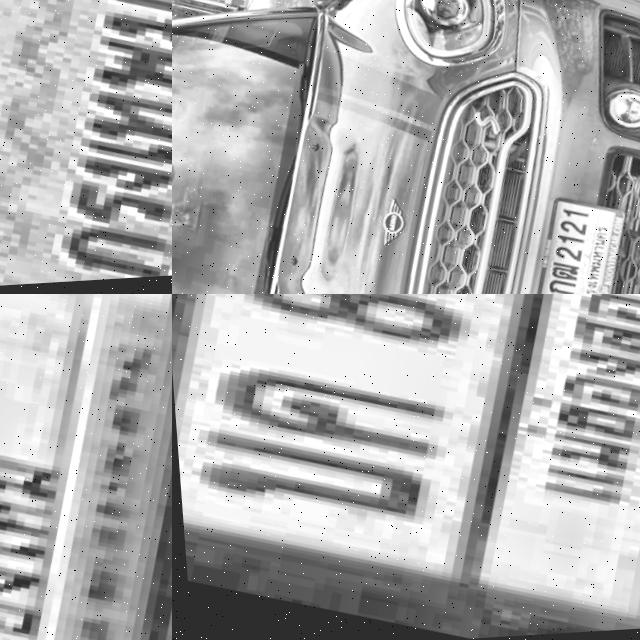license-plate: (172, 294, 640, 640), (0, 294, 172, 640), (0, 0, 172, 294), (510, 196, 631, 294)
